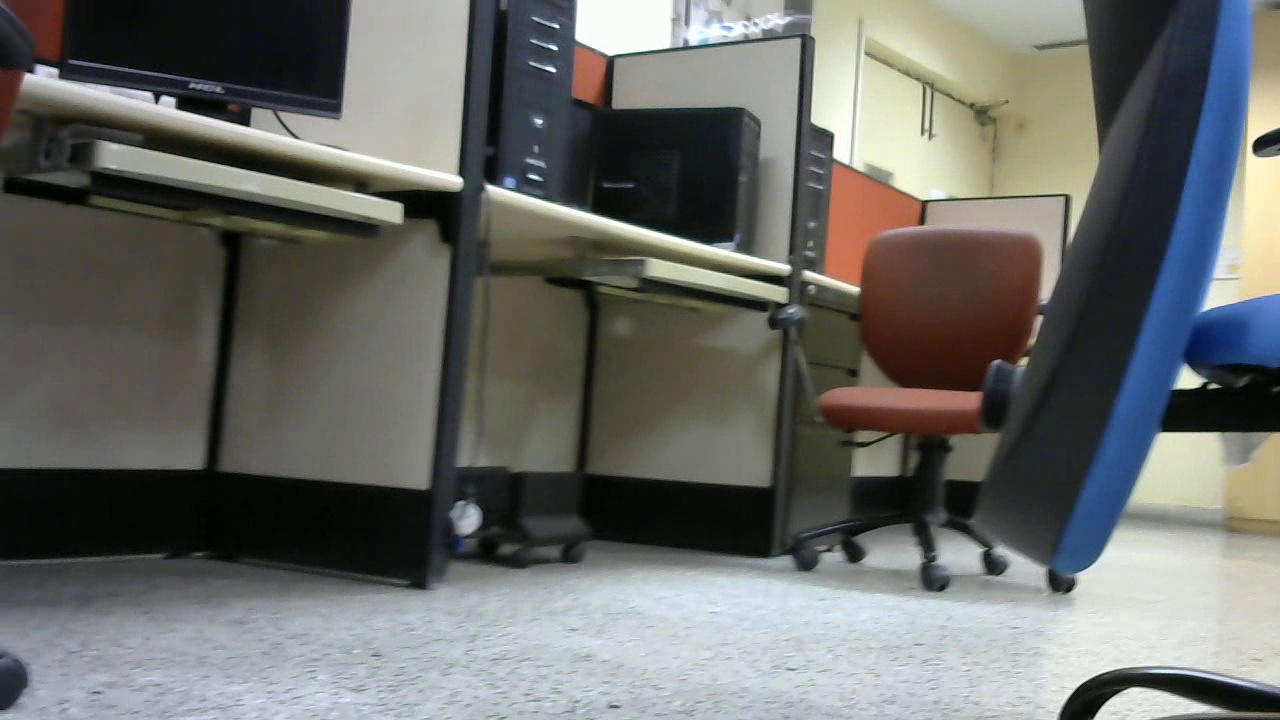chair: (765, 224, 1089, 602)
